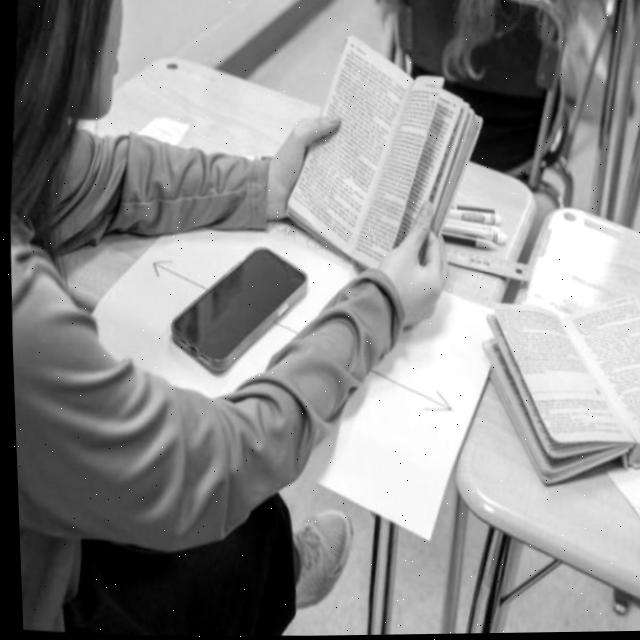phone: (161, 238, 309, 381)
